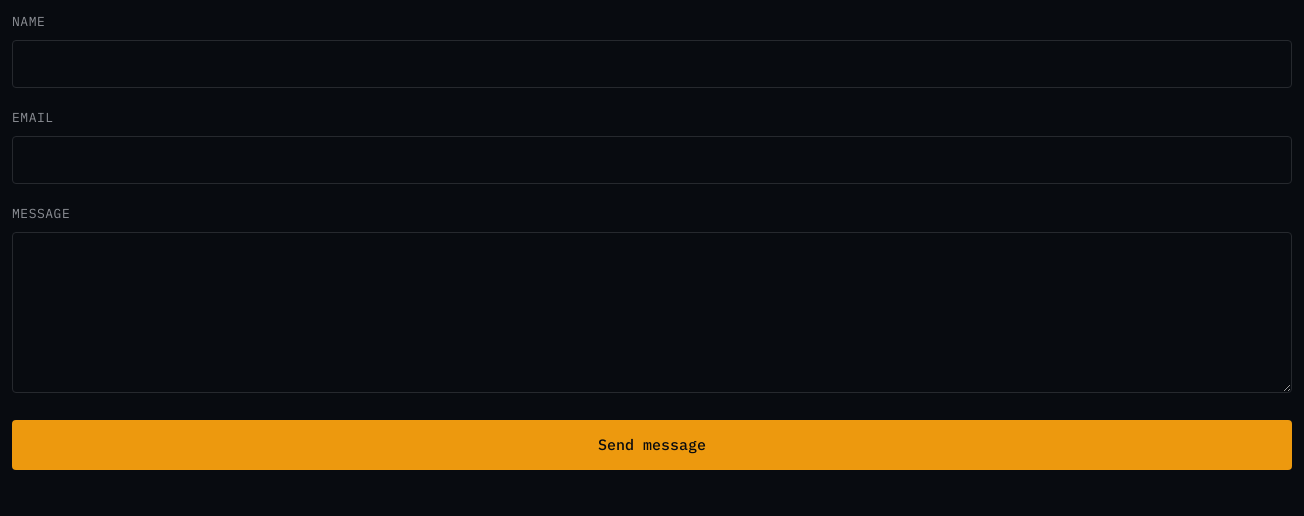
Scenario: ContactForm › surfaces field errors returned by the server
Step 1. Type "Rej Mediodia" into the field labelled "Name" → (652, 64), box [12,40,1292,88]
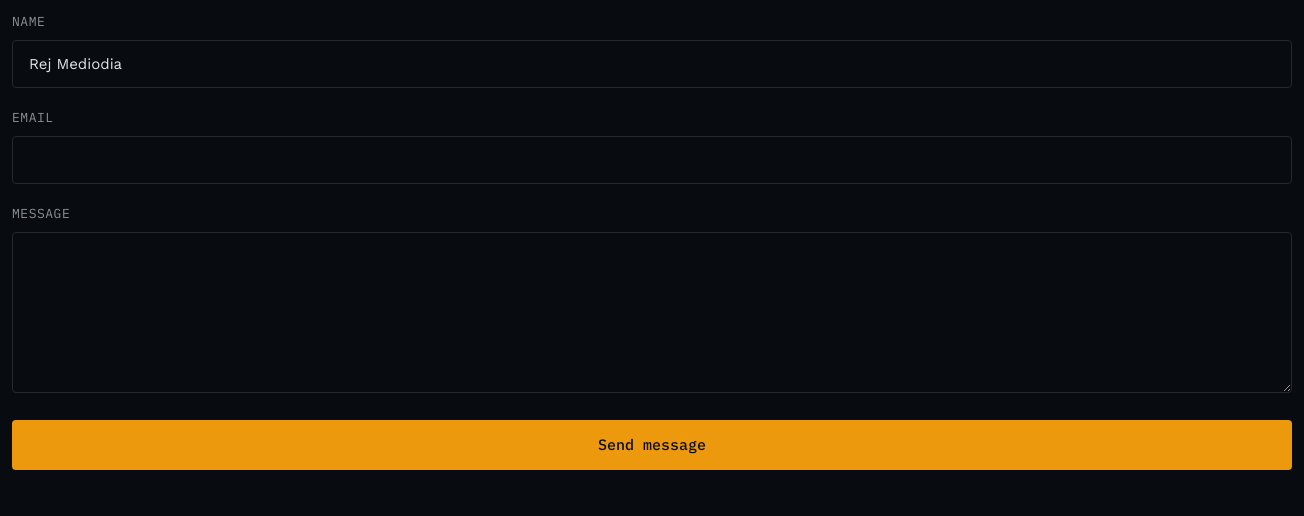
Step 2. Type "someone@example.com" into the field labelled "Email" → (652, 160), box [12,136,1292,184]
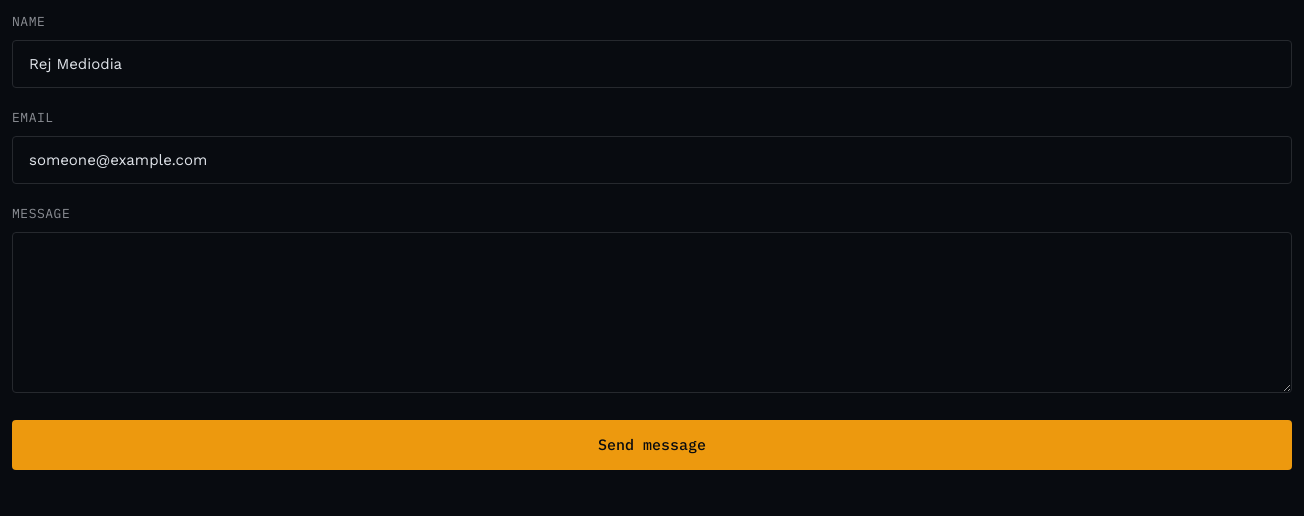
Step 3. Type "I would like to talk about a project." into the text box labelled "Message" → (652, 312), box [12,232,1292,392]
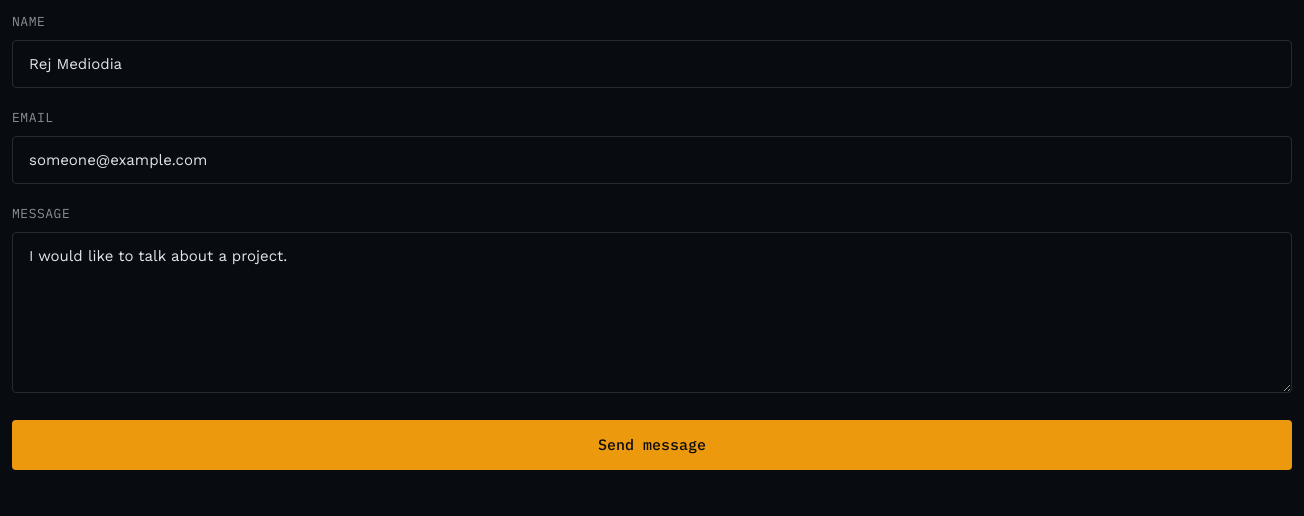
Step 4. Click the button "Send message" → (652, 445), box [12,420,1292,470]
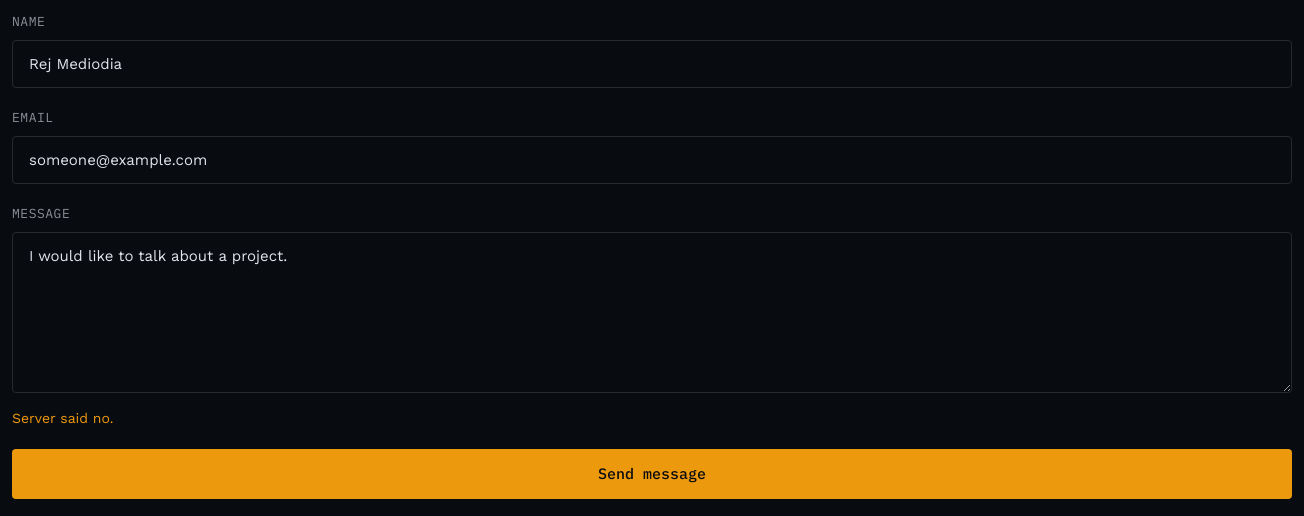
Check: the text "Server said no." is shown, box [12,410,113,426]
